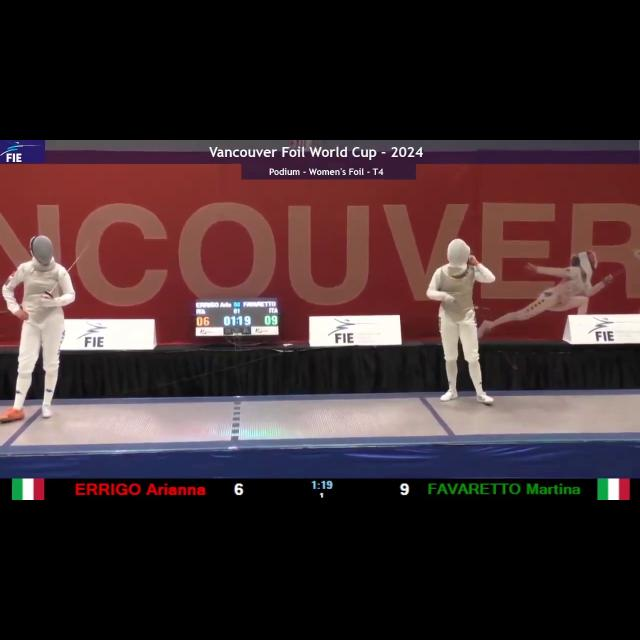blade: (44, 238, 94, 300)
